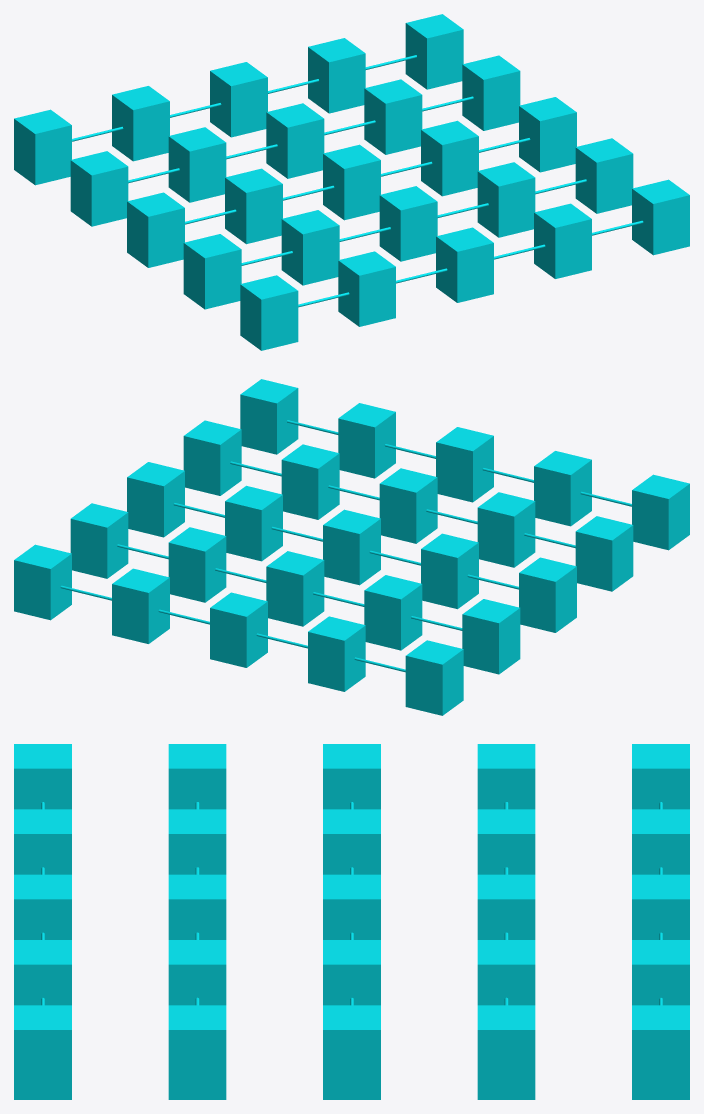
The model's file is nous_portal.glb.
3 views of the same model, one above another, from view 1: azimuth 30°, elevation 25°; view 2: azimuth 150°, elevation 25°; view 3: azimuth 270°, elevation 25° (orthographic). The views are drawn at different scales.
Visible parts, largest first — view 1: cell_-2_-2, cell_-2_-1, cell_-2_1, cell_-1_-1, cell_2_2, cell_-1_1, cell_1_-1, cell_1_1, cell_2_1, cell_0_1, cell_2_-1, cell_0_-1 (+13 smaller); view 2: cell_-2_2, cell_-2_1, cell_-2_-1, cell_-1_1, cell_2_-2, cell_-1_-1, cell_1_-1, cell_1_1, cell_2_-1, cell_0_-1, cell_2_1, cell_0_1 (+13 smaller); view 3: cell_2_-1, cell_2_1, cell_2_-2, cell_2_0, cell_2_2, cell_-1_-1, cell_-1_1, cell_0_-1, cell_0_1, cell_-2_-1, cell_-2_1, cell_1_-1 (+13 smaller).
Part boxes in pixels (x1,y1,x2,y2): cell_-2_-2: (240,275,298,350); cell_-2_-1: (183,234,241,309); cell_-2_1: (70,151,128,226); cell_-1_-1: (281,210,339,285); cell_2_2: (405,14,463,89); cell_-1_1: (168,127,226,202); cell_1_-1: (477,162,535,237); cell_1_1: (364,79,422,154); cell_2_1: (462,55,520,130); cell_0_1: (266,103,324,178); cell_2_-1: (575,138,633,213); cell_0_-1: (379,186,437,261); cell_-2_2: (405,640,463,715); cell_-2_1: (462,599,520,674); cell_-2_-1: (575,516,633,591); cell_-1_1: (364,575,422,650); cell_2_-2: (240,379,298,454); cell_-1_-1: (477,492,535,567); cell_1_-1: (281,444,339,519); cell_1_1: (168,527,226,602); cell_2_-1: (183,420,241,495); cell_0_-1: (379,468,437,543); cell_2_1: (70,503,128,578); cell_0_1: (266,551,324,626); cell_2_-1: (168,1005,226,1099); cell_2_1: (477,1005,535,1099); cell_2_-2: (14,1005,71,1099); cell_2_0: (323,1005,380,1099); cell_2_2: (632,1005,689,1099); cell_-1_-1: (168,809,226,874); cell_-1_1: (477,809,535,874); cell_0_-1: (168,874,226,939); cell_0_1: (477,874,535,939); cell_-2_-1: (168,744,226,809); cell_-2_1: (477,744,535,809); cell_1_-1: (168,940,226,1005).
Size of the model in its own units: 0.175 by 0.02 by 0.175.
